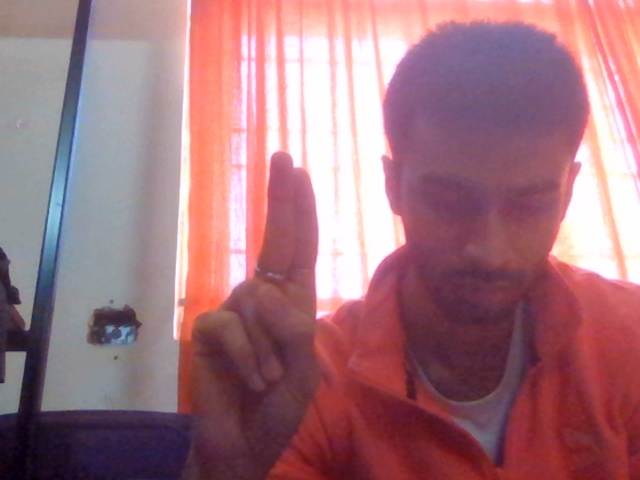U: (133, 140, 369, 470)
